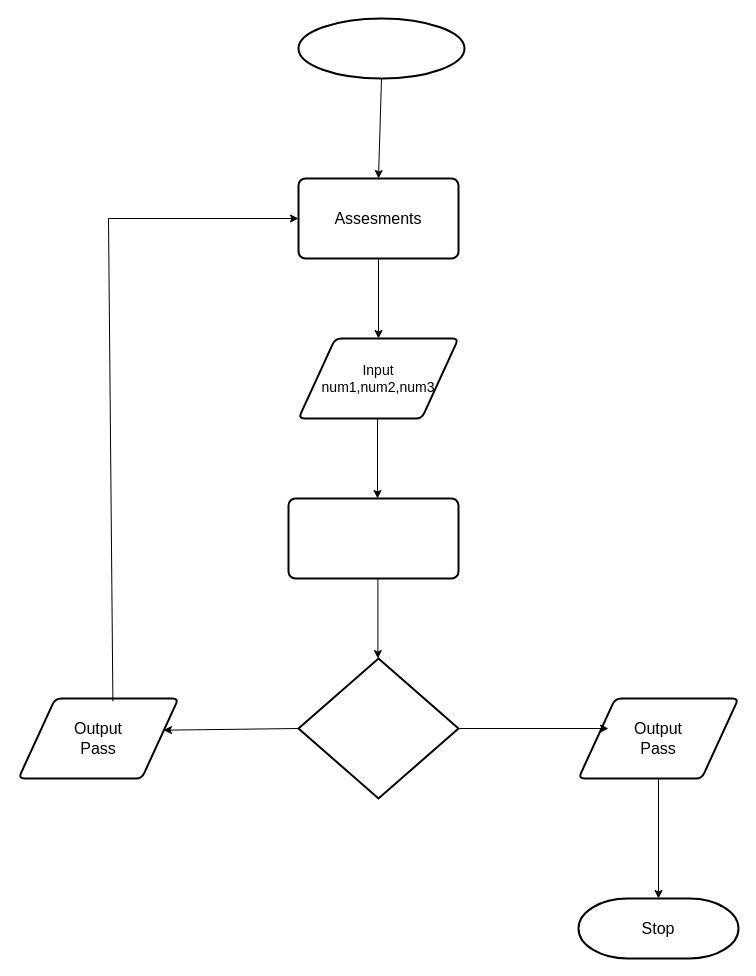
Some shapes in this 756 by 976 pixel diagram are drawn without their labels. Each missing label, with the centre of its shape:
Average = (num1+num2+num3)/3: (x=373, y=538)
If(Average>=75): (x=378, y=728)
Start: (x=381, y=48)
